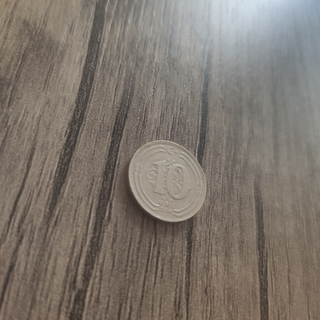10KURUS: (126, 137, 209, 225)
